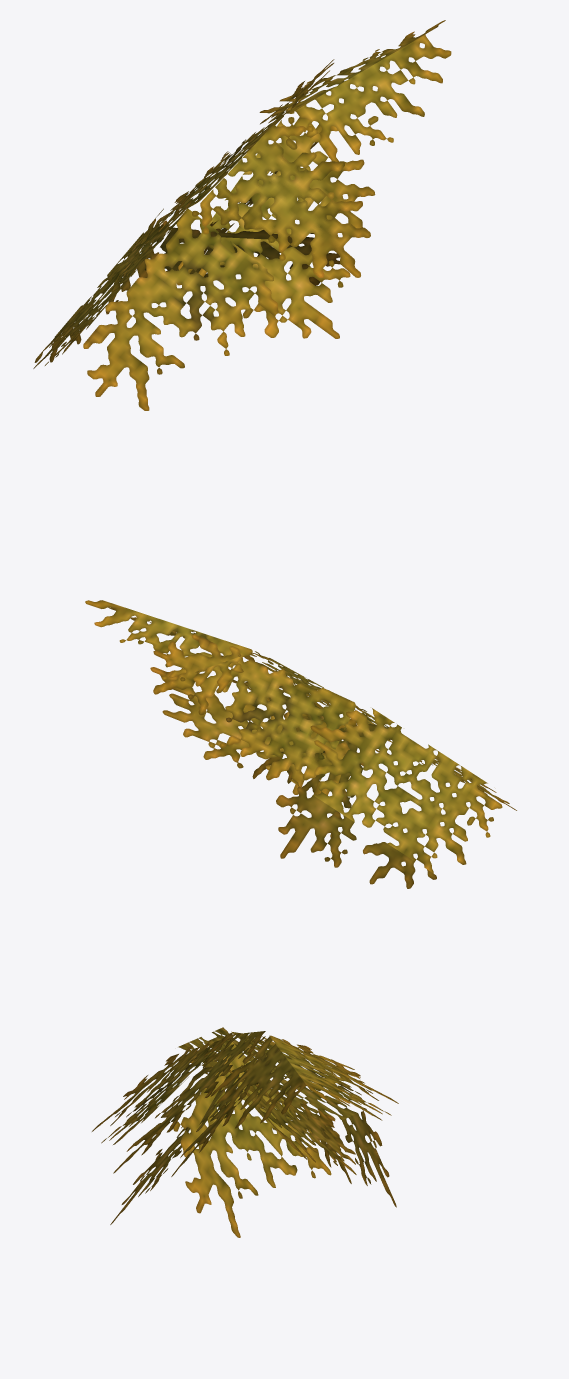
Rendered from larch_leaves_3.obj.
The picture shows the model from 3 angles, top to bottom: view 1: azimuth 30°, elevation 25°; view 2: azimuth 150°, elevation 25°; view 3: azimuth 270°, elevation 25°; orthographic projection. The views are drawn at different scales.
Visible parts, largest first — view 1: plane, cube; view 2: plane, cube; view 3: cube, plane.
Boxes of the visible parts, x1,y1,x2,y2 form: plane: [33, 20, 451, 410]; cube: [145, 59, 370, 285]; plane: [85, 600, 516, 888]; cube: [150, 634, 376, 837]; cube: [113, 1031, 398, 1237]; plane: [92, 1027, 396, 1224].
Size of the model in its own units: 3.45 by 2.25 by 2.56.
